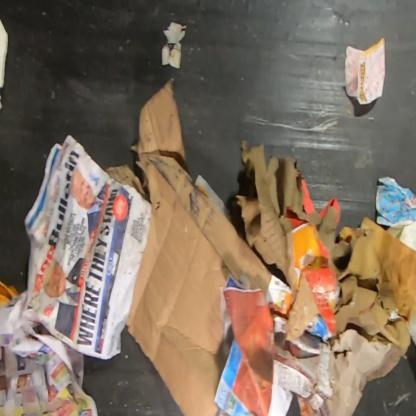cardboard: (105, 79, 273, 415), (228, 140, 415, 415)
